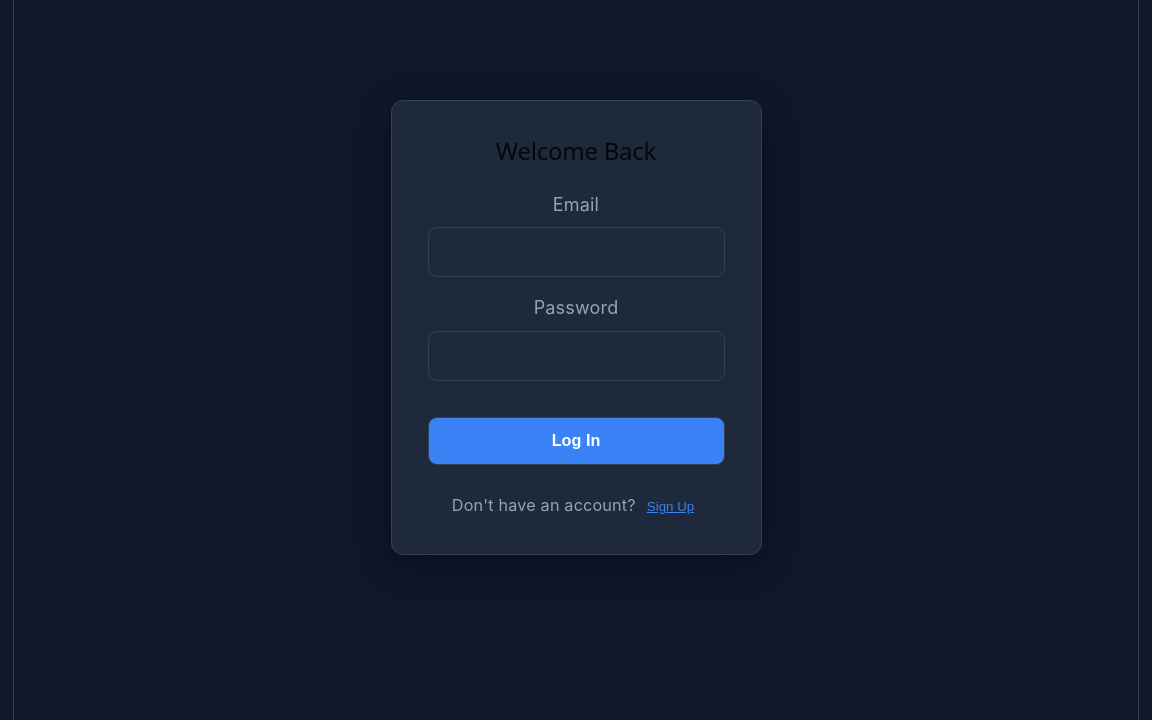
Test: Auth Component › switches to sign up form when button is clicked
Click the button "Sign Up". click: [670, 506]
box: [641, 498, 700, 514]
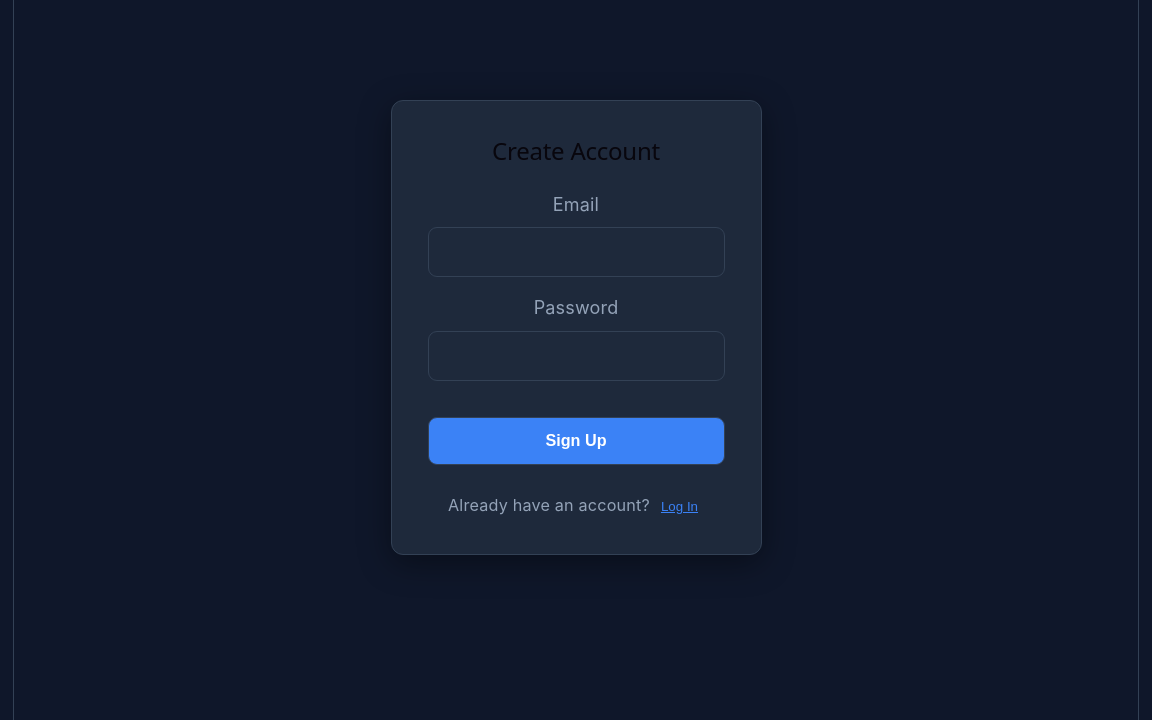
Expected: the heading "Create Account" is shown, [492, 134, 660, 167]
Expected: the button "Sign Up" is shown, [428, 416, 724, 464]
